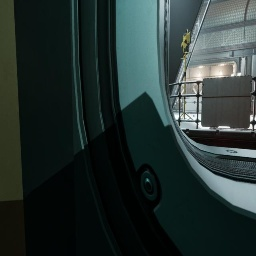EmergencyPhone ,: (251, 109, 253, 114)
